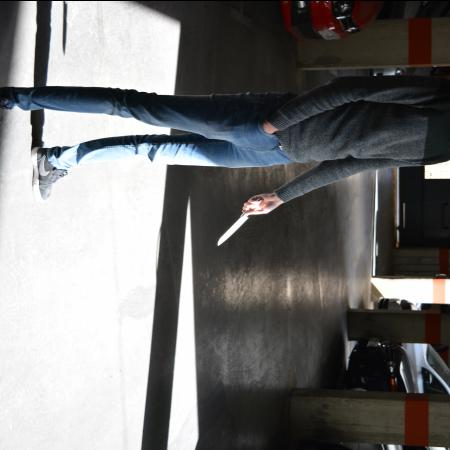long weapon: (214, 196, 268, 248)
